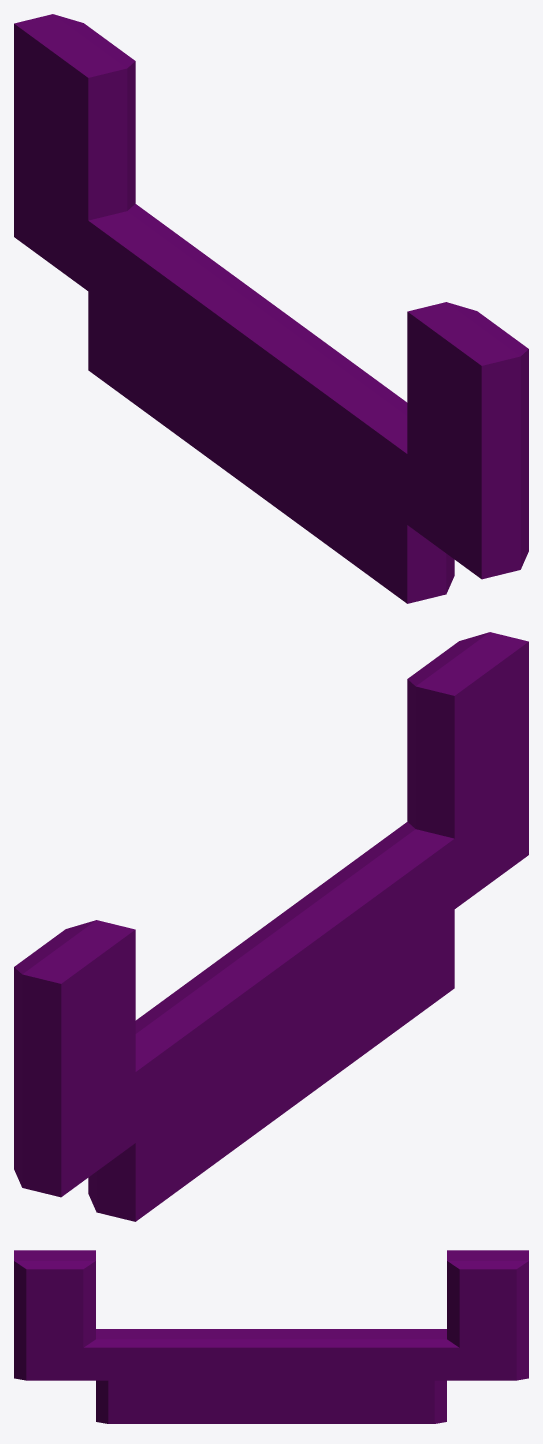
Rendered from Escudo.fbx.
The picture shows the model from 3 angles, top to bottom: view 1: azimuth 30°, elevation 25°; view 2: azimuth 150°, elevation 25°; view 3: azimuth 270°, elevation 25°; orthographic projection. The views are drawn at different scales.
Parts seen in each view (by area): view 1: escudo; view 2: escudo; view 3: escudo.
Part boxes in pixels (bbox=[...]): escudo: bbox=[14, 14, 528, 603]; escudo: bbox=[14, 632, 528, 1221]; escudo: bbox=[14, 1250, 528, 1423].
Size of the model in its own units: 12.08 by 58.52 by 167.
